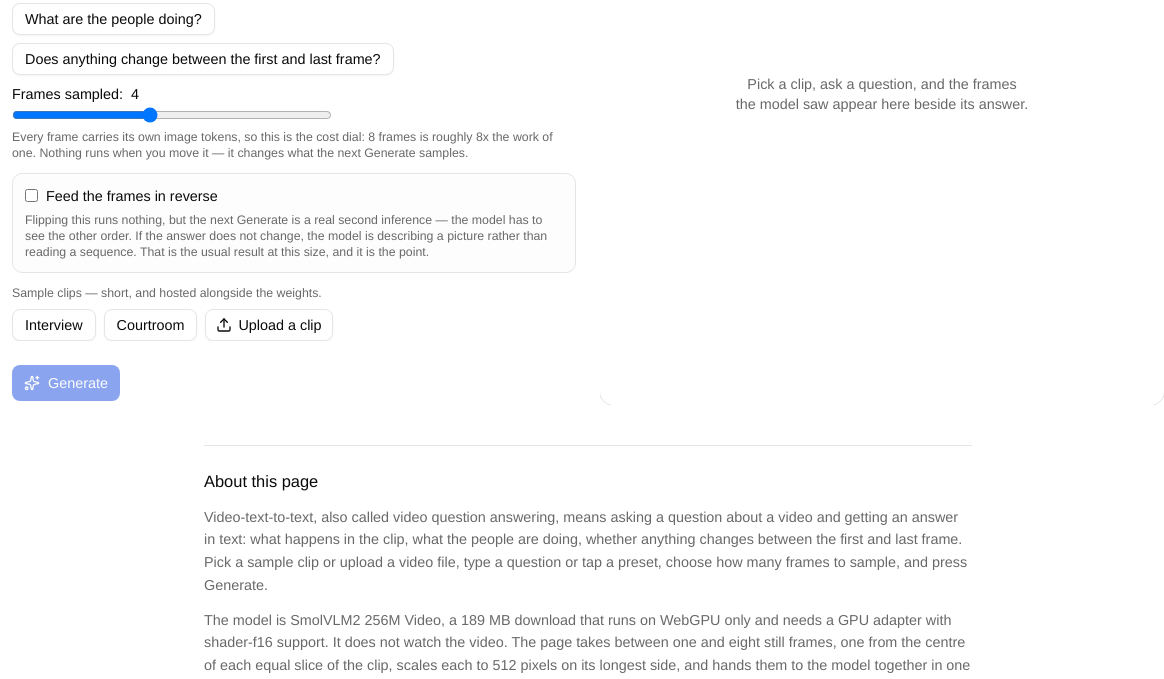
Scenario: VideoTextToTextPage — nothing runs until asked › editing the question and tapping a preset run nothing
This screenshot has width=1164, height=679.
(page scrolled)
Click the button "Interview" at {"x": 54, "y": 324}, box [12, 308, 96, 340]
(page scrolled)
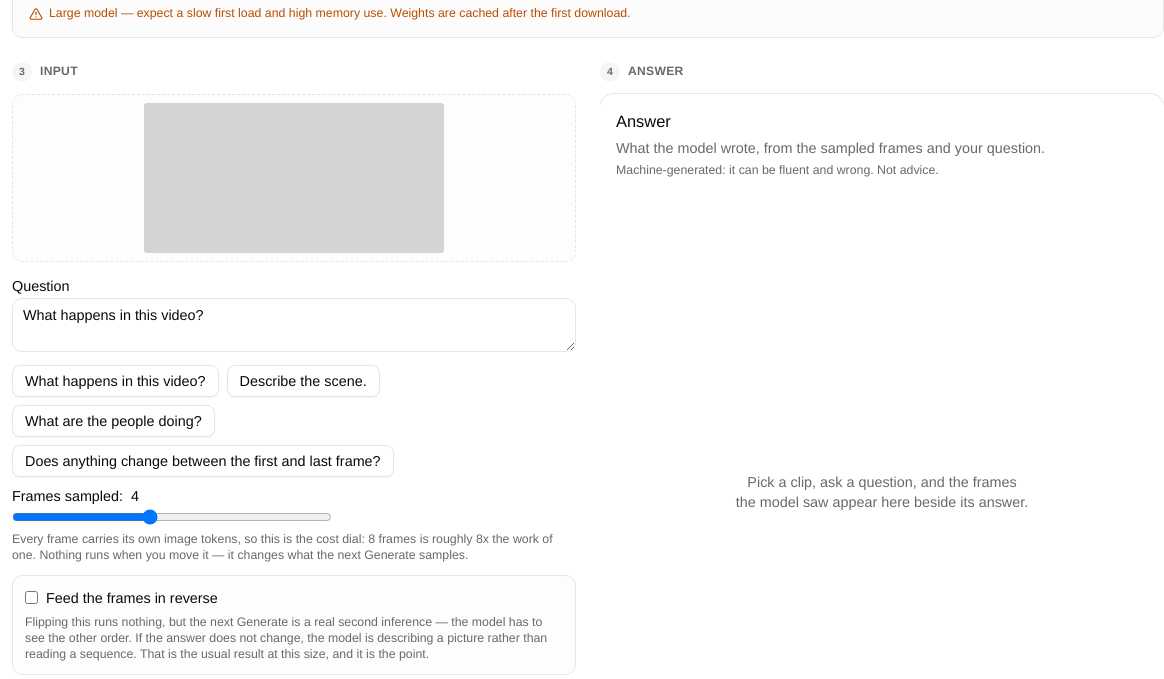
Replace the text in the text box with test id "question-input" with "What colour is the room?" at {"x": 294, "y": 324}, box [12, 298, 576, 352]
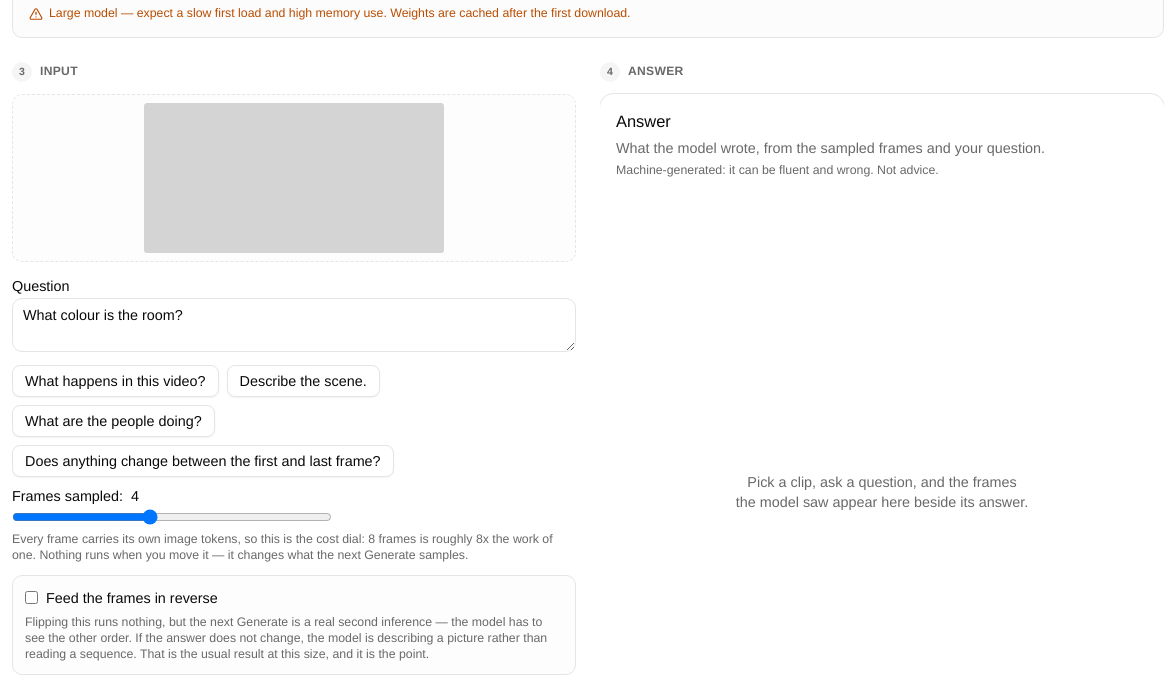
Click the button "Describe the scene." at {"x": 303, "y": 380}, box [227, 364, 380, 396]
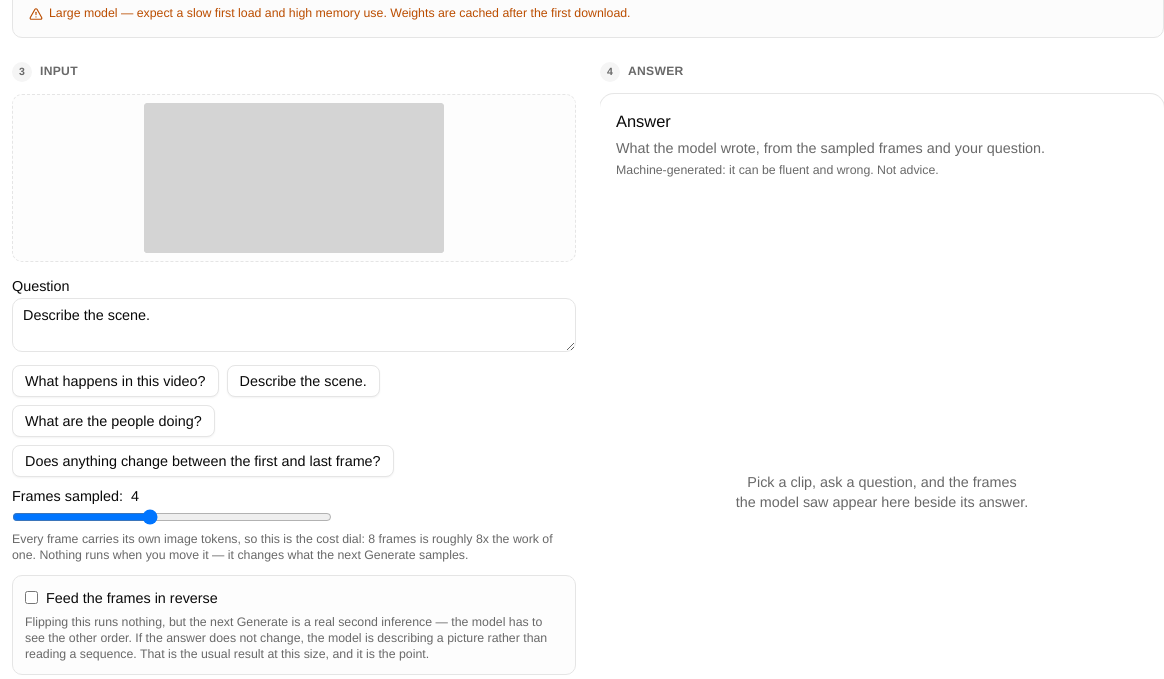
Now the text box with test id "question-input" holds "Describe the scene.", box [12, 298, 576, 352]
